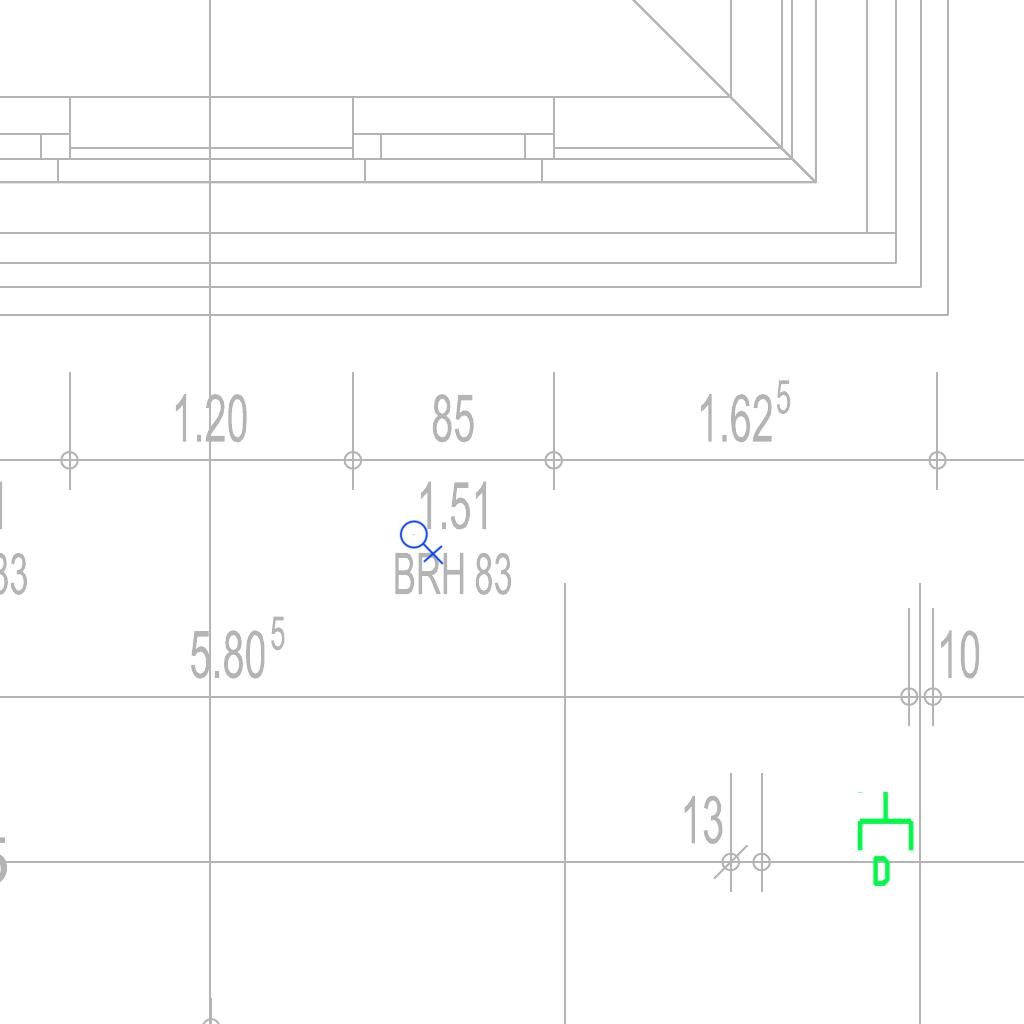Datenanschluss_einfach: (853, 789, 922, 889)
Elektroanschluss_allgemein_230V_Geraeteanschlussdose_230V: (399, 516, 446, 565)
